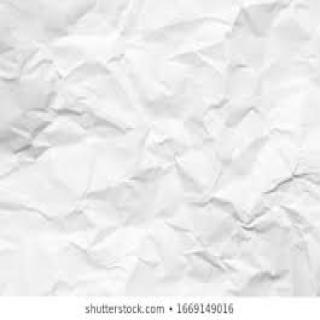PAPER: (0, 0, 319, 295)
